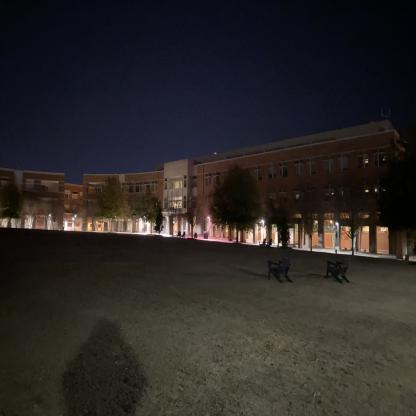eb3: (80, 122, 398, 251)
